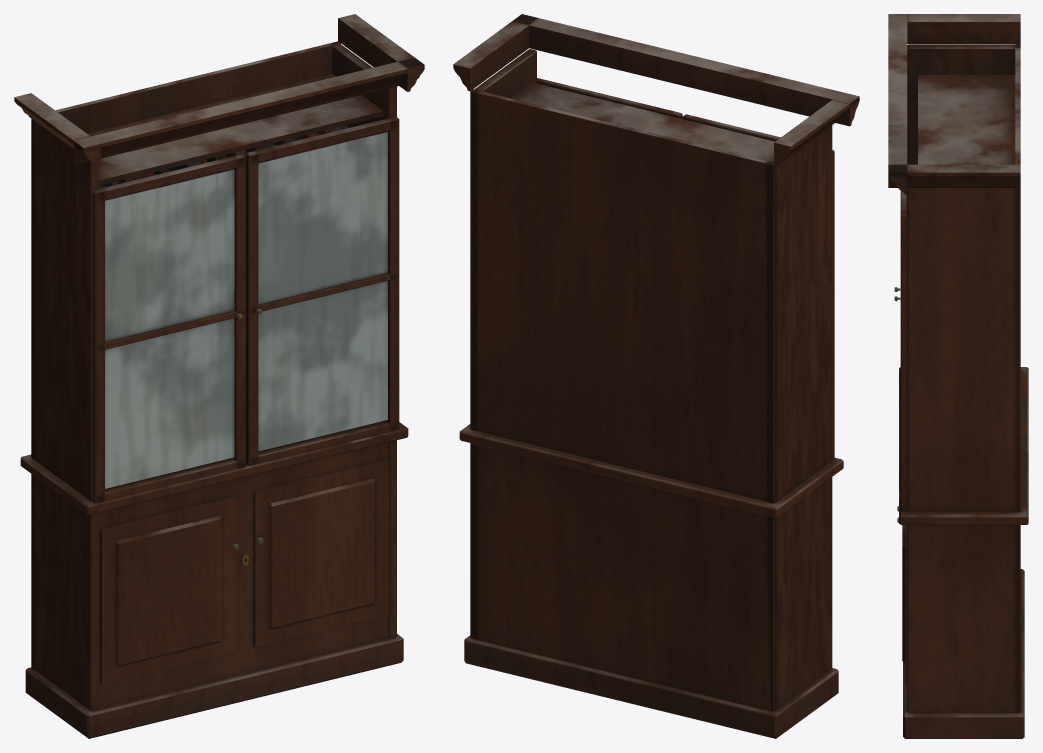
Rendered from Bookcase.fbx.
3 renders of one model, left to right at view 1: azimuth 30°, elevation 25°; view 2: azimuth 150°, elevation 25°; view 3: azimuth 270°, elevation 25°, orthographic. The views are drawn at different scales.
Parts seen in each view (by area): view 1: Frame, Glass; view 2: Frame; view 3: Frame.
Boxes of the visible parts, x1=… form: Frame: x1=14, y1=14, x2=424, y2=738; Glass: x1=105, y1=132, x2=387, y2=488; Frame: x1=453, y1=14, x2=859, y2=738; Frame: x1=888, y1=14, x2=1028, y2=738.
Size of the model in its own units: 4.17 by 7.02 by 1.56.
1 material, 1 textured.
